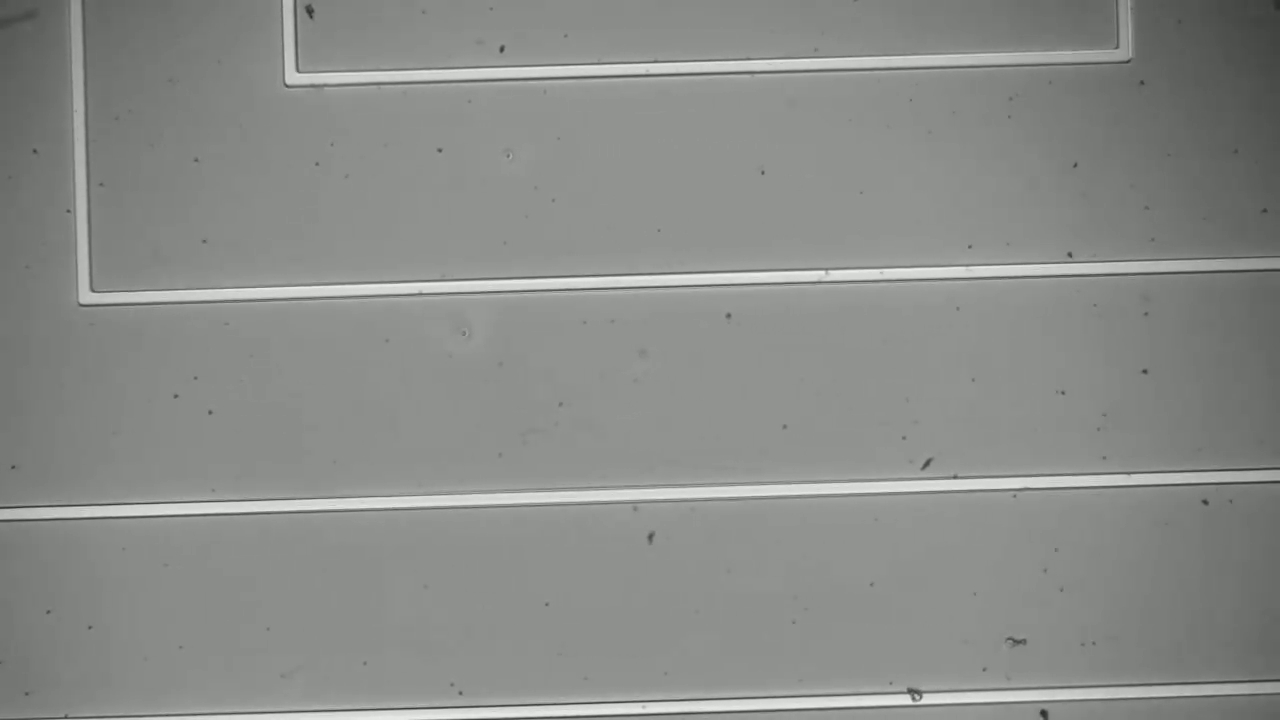stains_enbedded: (900, 681, 936, 711)
